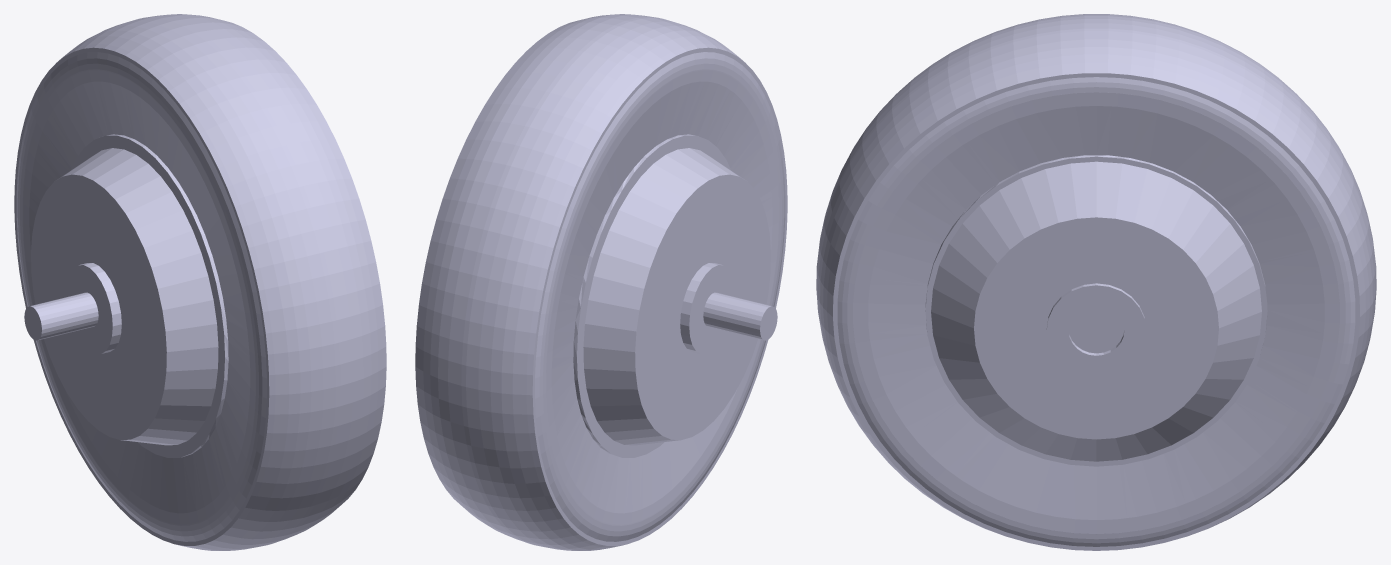
The model's file is krytn_tray_front_wheel.dae.dae.
3 views of the same model, side by side, from view 1: azimuth 30°, elevation 25°; view 2: azimuth 150°, elevation 25°; view 3: azimuth 270°, elevation 25° (orthographic). The views are drawn at different scales.
Visible parts, largest first — view 1: node0; view 2: node0; view 3: node0.
Boxes of the visible parts, x1,y1,x2,y2 form: node0: (14,14,386,550); node0: (415,14,787,550); node0: (816,14,1376,550).
Bounding box in the file's own units: 0.1118 × 0.2 × 0.1999.
